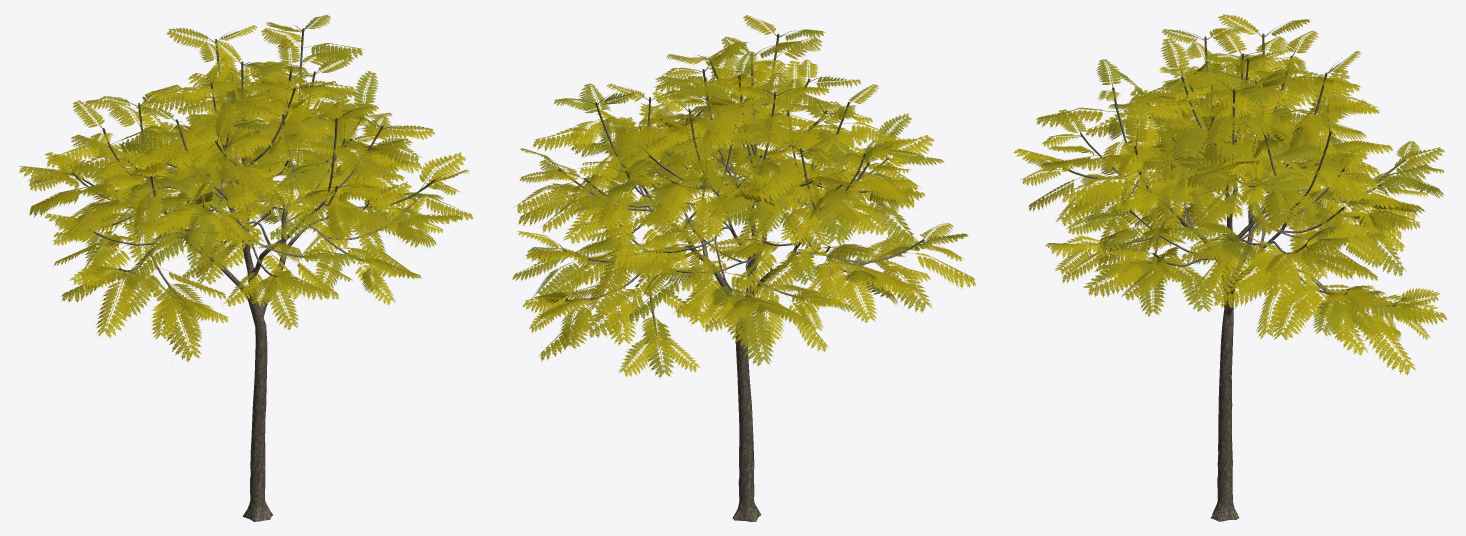
The model's file is jacaranda0.glb.
3 views of the same model, side by side, from view 1: azimuth 30°, elevation 25°; view 2: azimuth 150°, elevation 25°; view 3: azimuth 270°, elevation 25° (orthographic).
Visible parts, largest first — view 1: Jacaranda_mimosifolia_HD_Jacaranda leaf 01 y2_0, Jacaranda_mimosifolia_HD_Jacaranda leaf 01 y3_0, Jacaranda_mimosifolia_HD_Jacaranda leaf 01 y1_0, Jacaranda_mimosifolia_HD_Jacaranda bark_0, Jacaranda_mimosifolia_HD_Jacaranda twig_0, Jacaranda_mimosifolia_HD_Jacaranda bark 02_0, Jacaranda_mimosifolia_HD_Jacaranda leaf stalk_0; view 2: Jacaranda_mimosifolia_HD_Jacaranda leaf 01 y3_0, Jacaranda_mimosifolia_HD_Jacaranda leaf 01 y2_0, Jacaranda_mimosifolia_HD_Jacaranda leaf 01 y1_0, Jacaranda_mimosifolia_HD_Jacaranda bark_0, Jacaranda_mimosifolia_HD_Jacaranda twig_0, Jacaranda_mimosifolia_HD_Jacaranda bark 02_0, Jacaranda_mimosifolia_HD_Jacaranda leaf stalk_0; view 3: Jacaranda_mimosifolia_HD_Jacaranda leaf 01 y3_0, Jacaranda_mimosifolia_HD_Jacaranda leaf 01 y2_0, Jacaranda_mimosifolia_HD_Jacaranda leaf 01 y1_0, Jacaranda_mimosifolia_HD_Jacaranda bark_0, Jacaranda_mimosifolia_HD_Jacaranda twig_0, Jacaranda_mimosifolia_HD_Jacaranda bark 02_0, Jacaranda_mimosifolia_HD_Jacaranda leaf stalk_0.
Part boxes in pixels (x1,y1,x2,y2): Jacaranda_mimosifolia_HD_Jacaranda leaf 01 y2_0: [19, 22, 472, 362]; Jacaranda_mimosifolia_HD_Jacaranda leaf 01 y3_0: [29, 25, 465, 339]; Jacaranda_mimosifolia_HD_Jacaranda leaf 01 y1_0: [29, 14, 443, 283]; Jacaranda_mimosifolia_HD_Jacaranda bark_0: [136, 117, 331, 521]; Jacaranda_mimosifolia_HD_Jacaranda twig_0: [71, 28, 435, 302]; Jacaranda_mimosifolia_HD_Jacaranda bark 02_0: [115, 88, 398, 269]; Jacaranda_mimosifolia_HD_Jacaranda leaf stalk_0: [65, 18, 445, 315]; Jacaranda_mimosifolia_HD_Jacaranda leaf 01 y3_0: [518, 54, 975, 376]; Jacaranda_mimosifolia_HD_Jacaranda leaf 01 y2_0: [512, 15, 968, 349]; Jacaranda_mimosifolia_HD_Jacaranda leaf 01 y1_0: [520, 29, 925, 377]; Jacaranda_mimosifolia_HD_Jacaranda bark_0: [629, 143, 823, 521]; Jacaranda_mimosifolia_HD_Jacaranda twig_0: [558, 33, 923, 334]; Jacaranda_mimosifolia_HD_Jacaranda bark 02_0: [613, 105, 881, 294]; Jacaranda_mimosifolia_HD_Jacaranda leaf stalk_0: [550, 23, 939, 347]; Jacaranda_mimosifolia_HD_Jacaranda leaf 01 y3_0: [1013, 14, 1440, 375]; Jacaranda_mimosifolia_HD_Jacaranda leaf 01 y2_0: [1020, 19, 1447, 340]; Jacaranda_mimosifolia_HD_Jacaranda leaf 01 y1_0: [1083, 26, 1443, 336]; Jacaranda_mimosifolia_HD_Jacaranda bark_0: [1137, 110, 1303, 521]; Jacaranda_mimosifolia_HD_Jacaranda twig_0: [1063, 33, 1405, 306]; Jacaranda_mimosifolia_HD_Jacaranda bark 02_0: [1106, 93, 1362, 291]; Jacaranda_mimosifolia_HD_Jacaranda leaf stalk_0: [1045, 20, 1421, 315].
Bounding box in the file's own units: 2.23 × 2.51 × 2.16.
7 materials, 7 textured.
